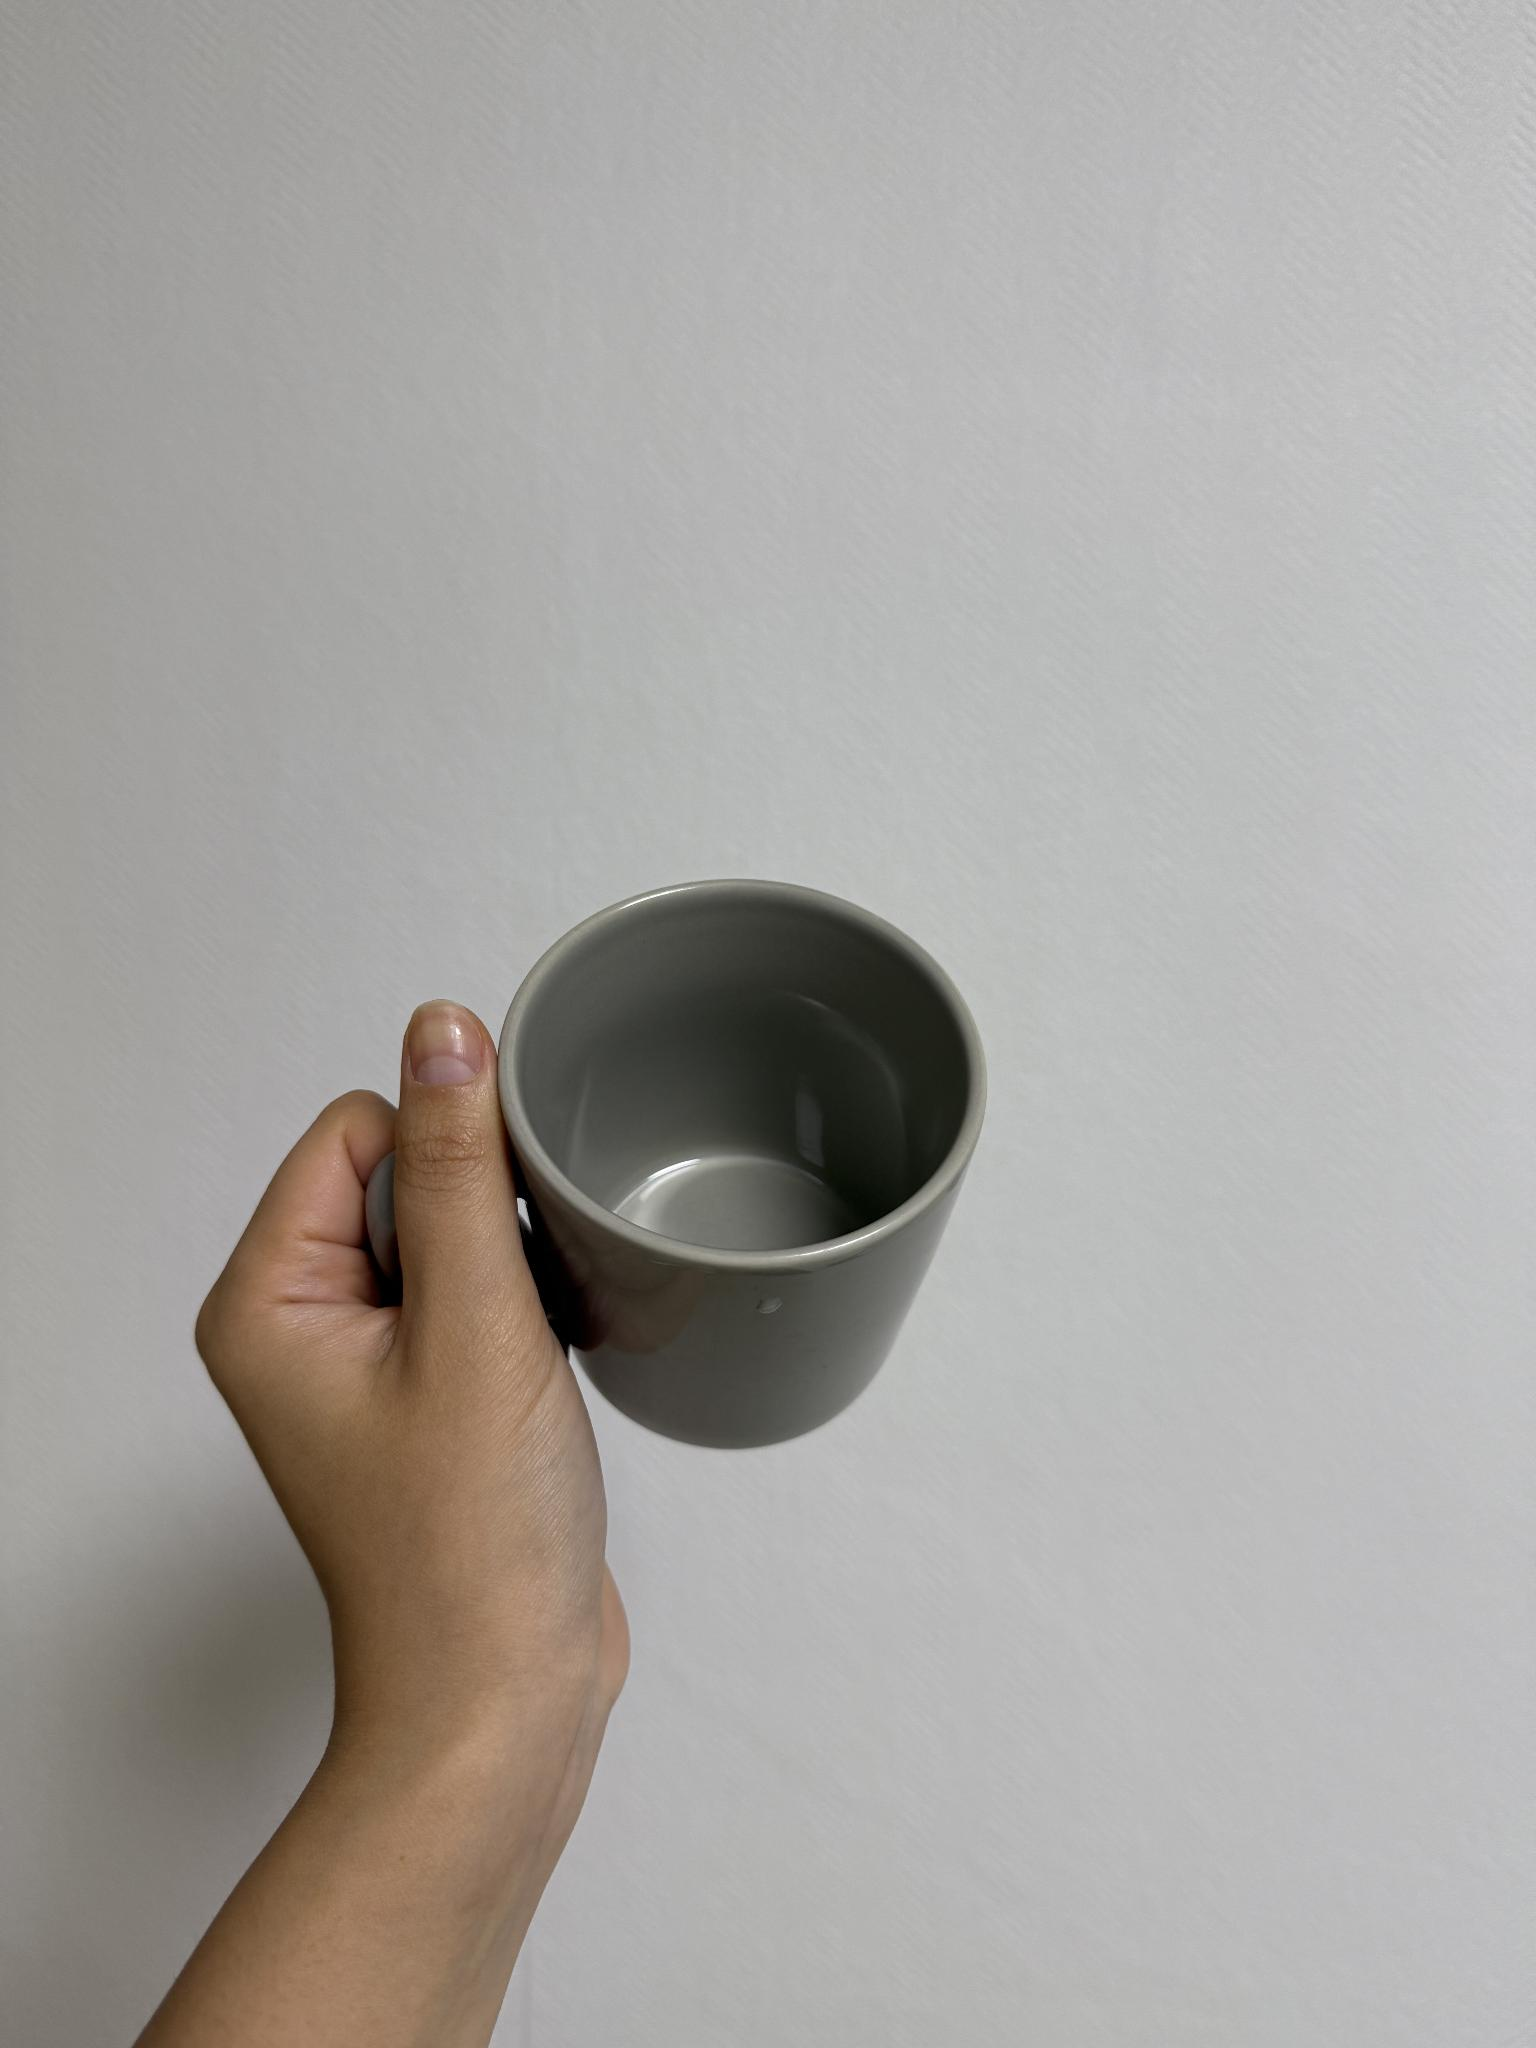cup: (182, 861, 987, 1795)
